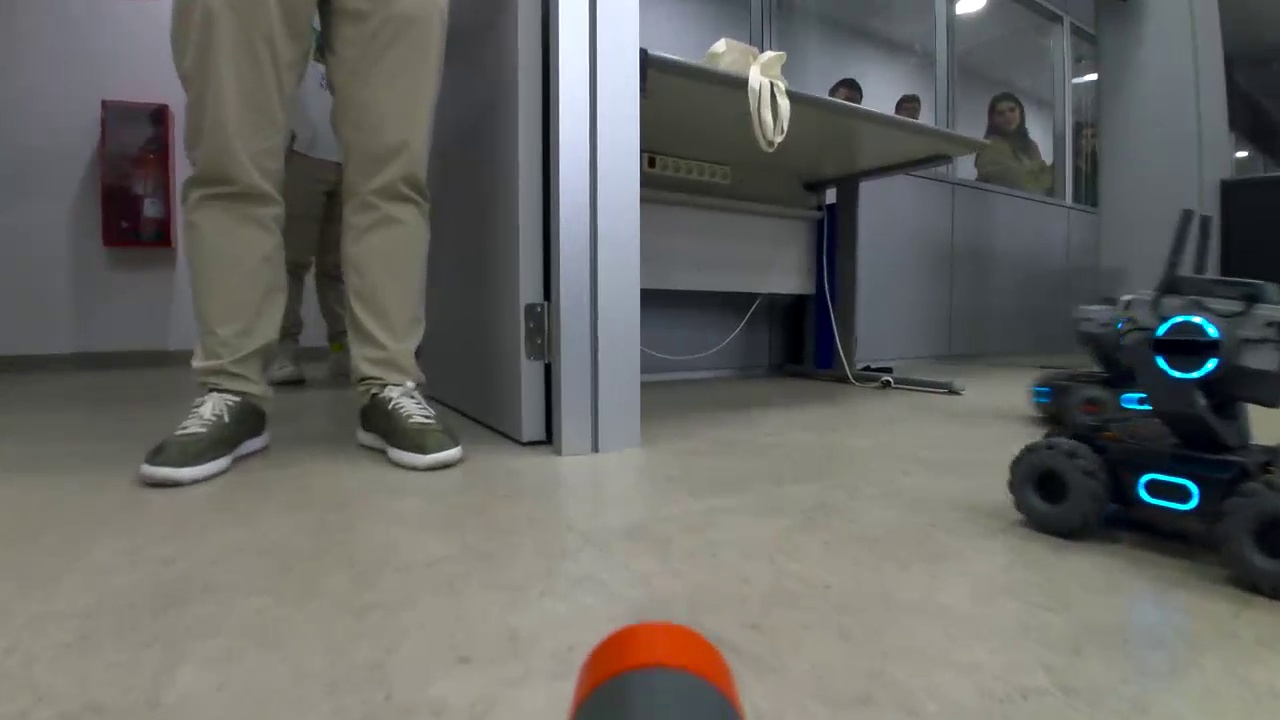robot: (1004, 268, 1280, 599), (1030, 293, 1234, 442)
